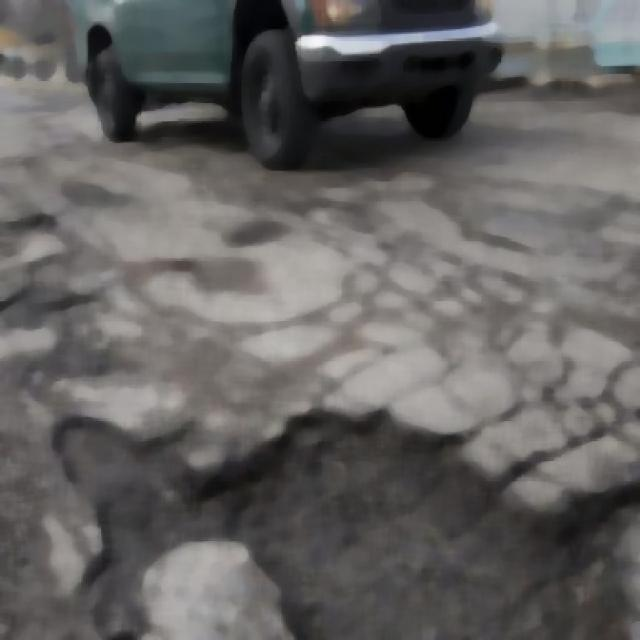Pothole: (53, 410, 604, 638)
